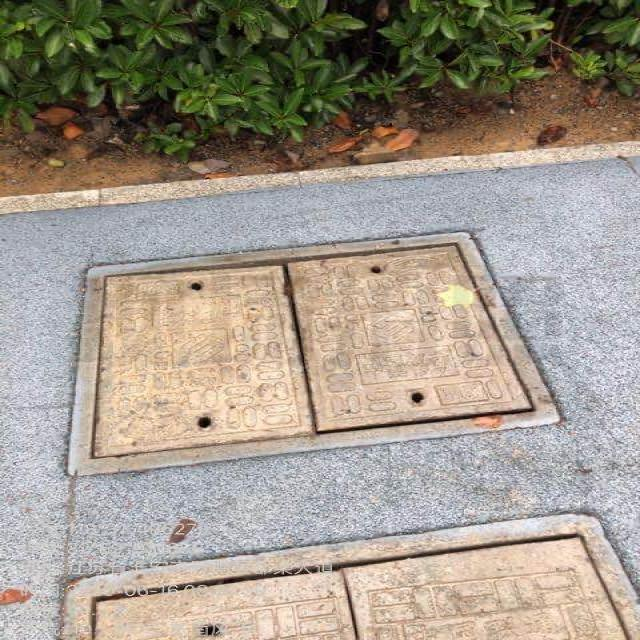Good: (64, 228, 560, 474), (64, 513, 639, 639)
